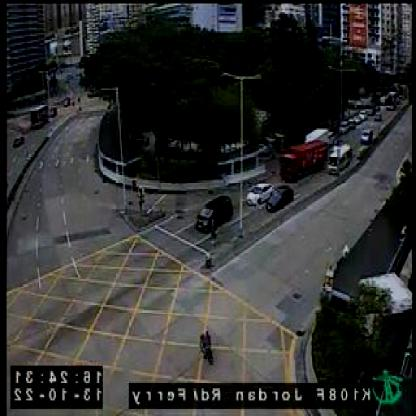Bus: (326, 142, 354, 177), (29, 103, 50, 129)
Car: (195, 195, 232, 232), (245, 182, 276, 207), (266, 186, 294, 213), (360, 128, 374, 145), (12, 134, 23, 150)
Truck: (280, 142, 326, 184)
